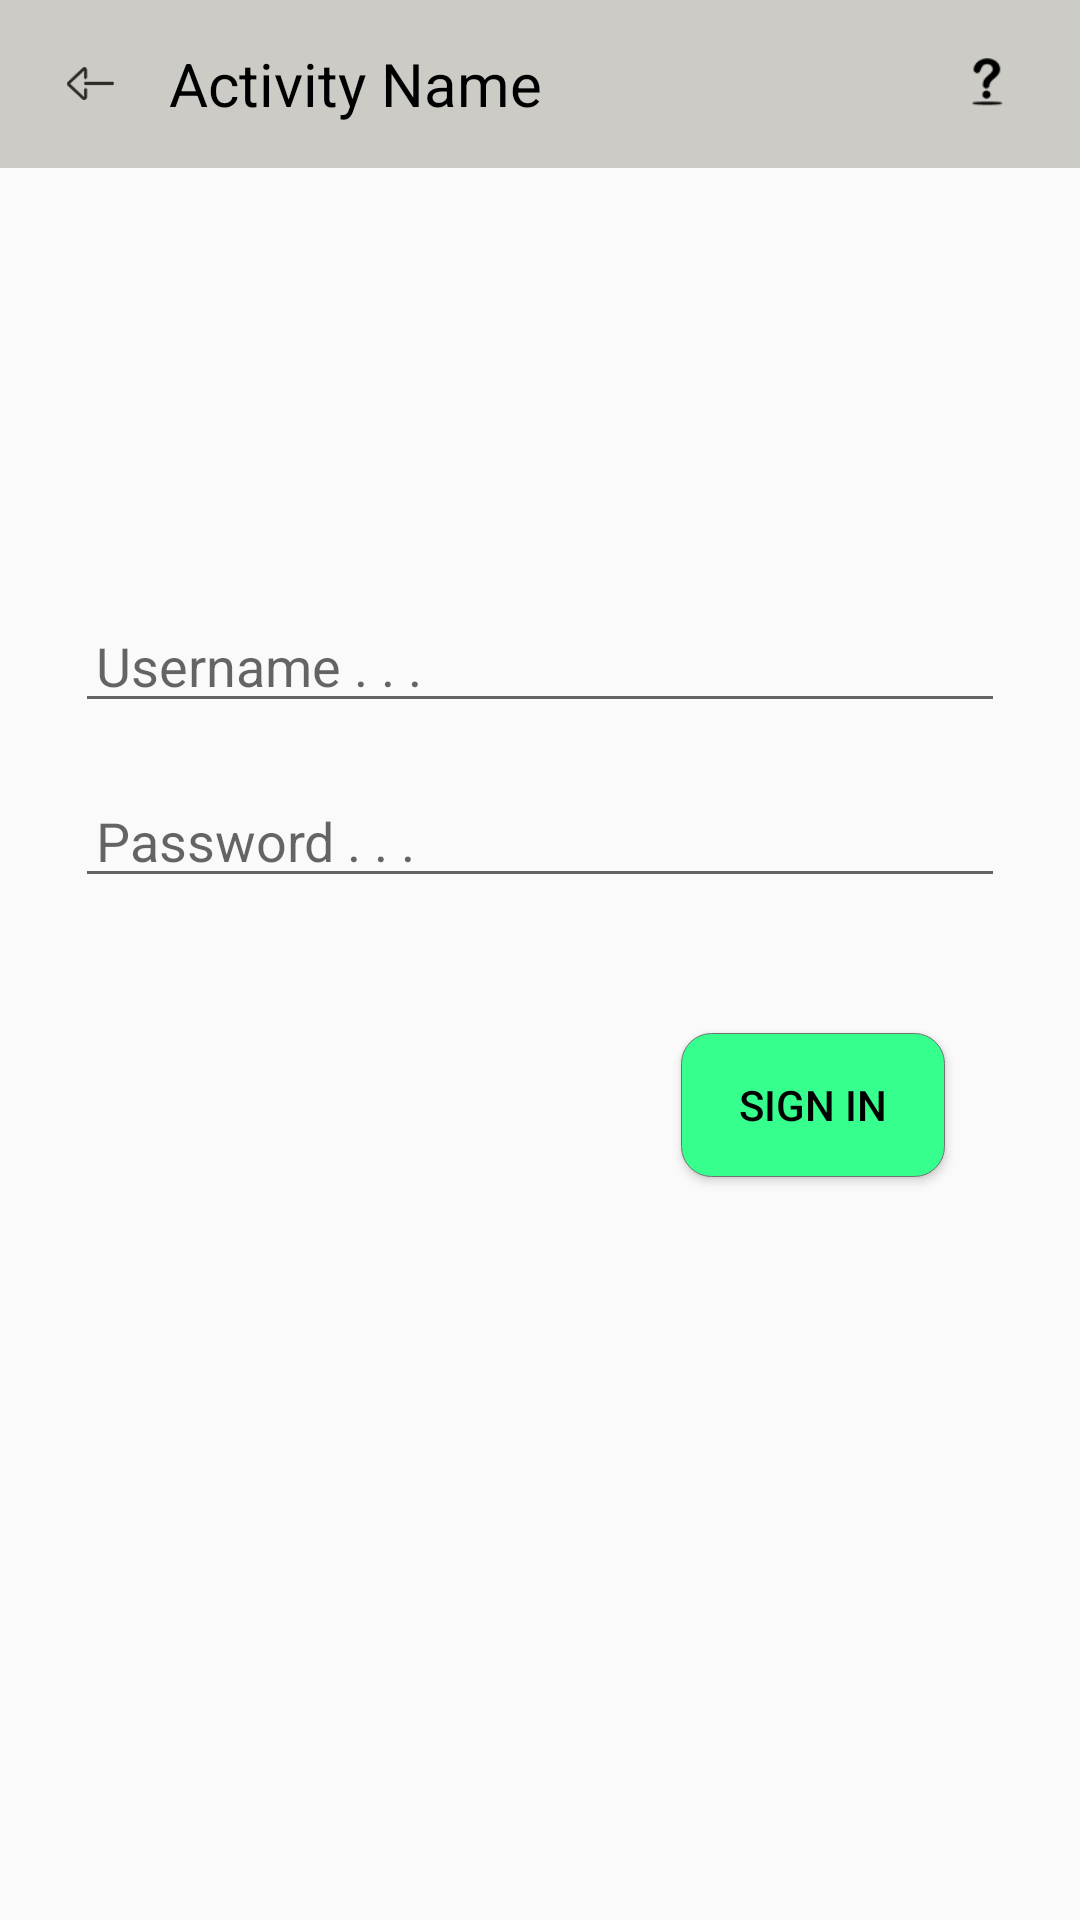

Icons on this 1080x1920 Android screen, each with the point to tap as (x,y):
back: (90,83)
help: (987,82)
